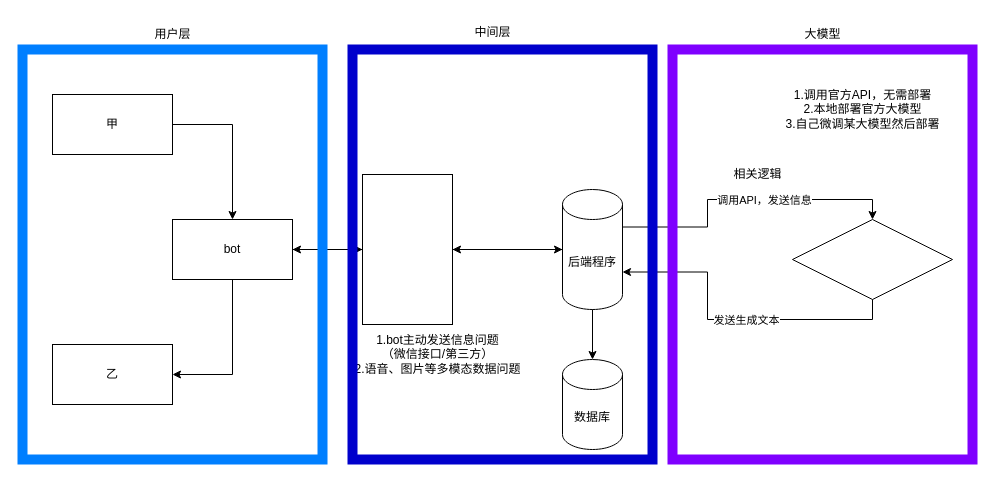
Some shapes in this 994 by 481 pixel diagram are drawn without their labels. Here are the shapes that lost their labels. From the top down, the centre of each, then its label:
(x=407, y=249): 与微信相关的中介服务
(x=872, y=259): 大模型端
